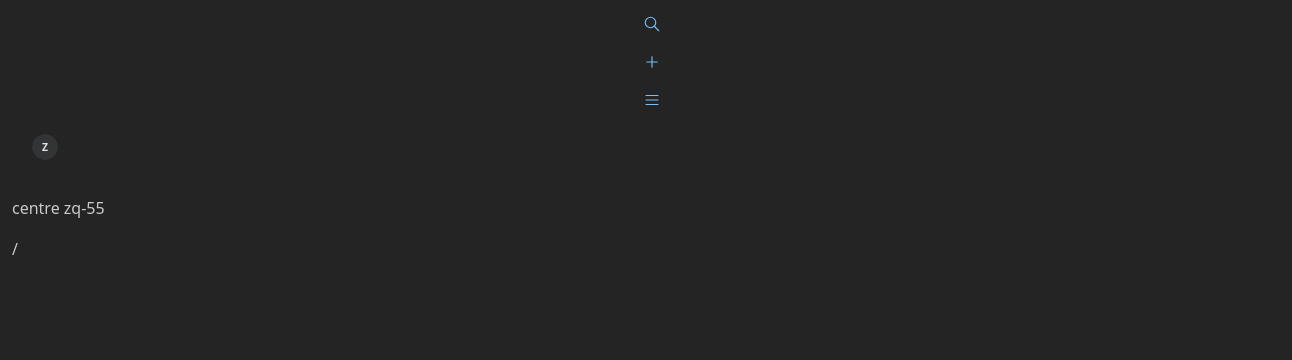
Scenario: dismissing the overlay (D11) › an in-entry navigation from the user menu closes it — DoD-7
Click the button named "expand tree" at x=652, y=100, box [638,86,666,114]
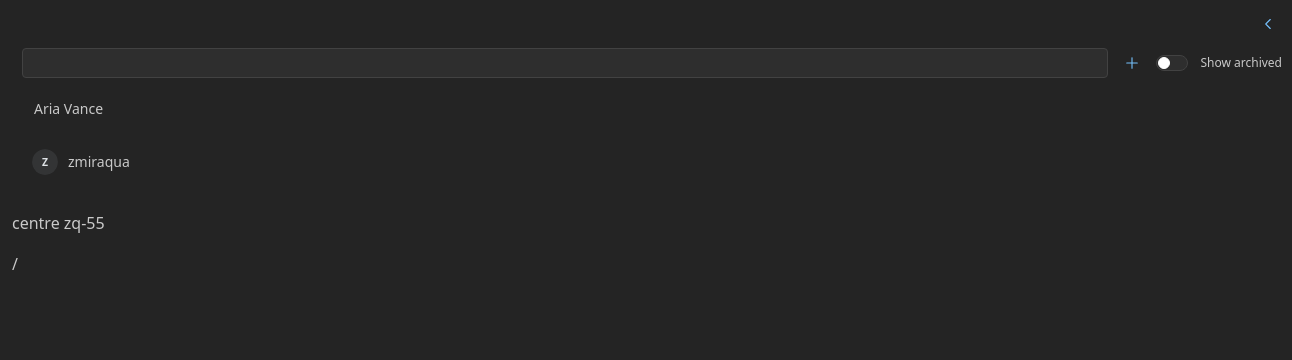
Click the button with aria-label "user menu" at x=99, y=161, box [22,139,1282,185]
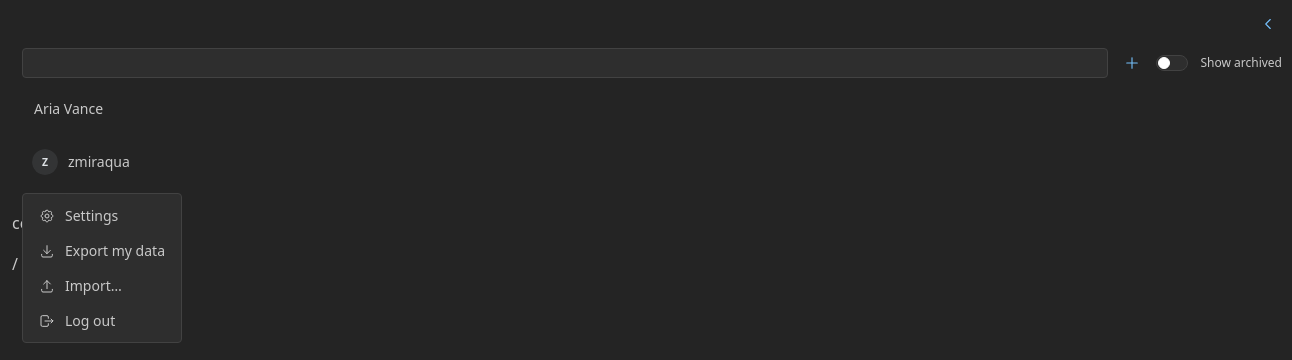
Result: the text "Log out" is shown at [65,310,115,330]
Click the menu item "Settings" at x=102, y=215, box [27,198,177,233]
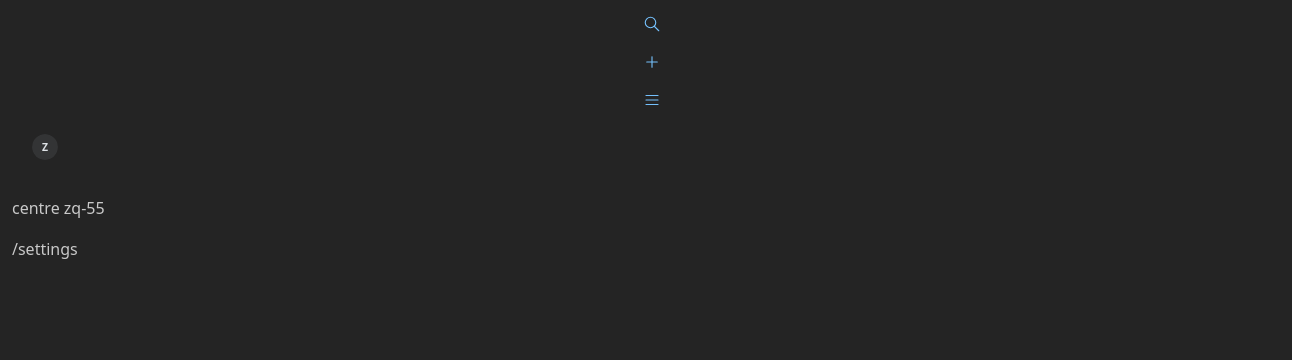
Expected: the button named "expand tree" is shown, [638,86,666,114]
Result: the text with test id "probe-location" reads "/settings" at [12,238,78,260]
